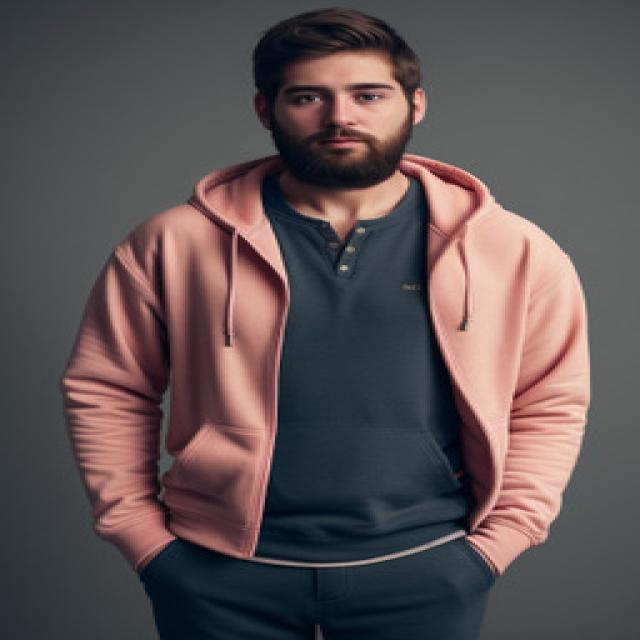Ai human 2: (55, 1, 600, 640)
